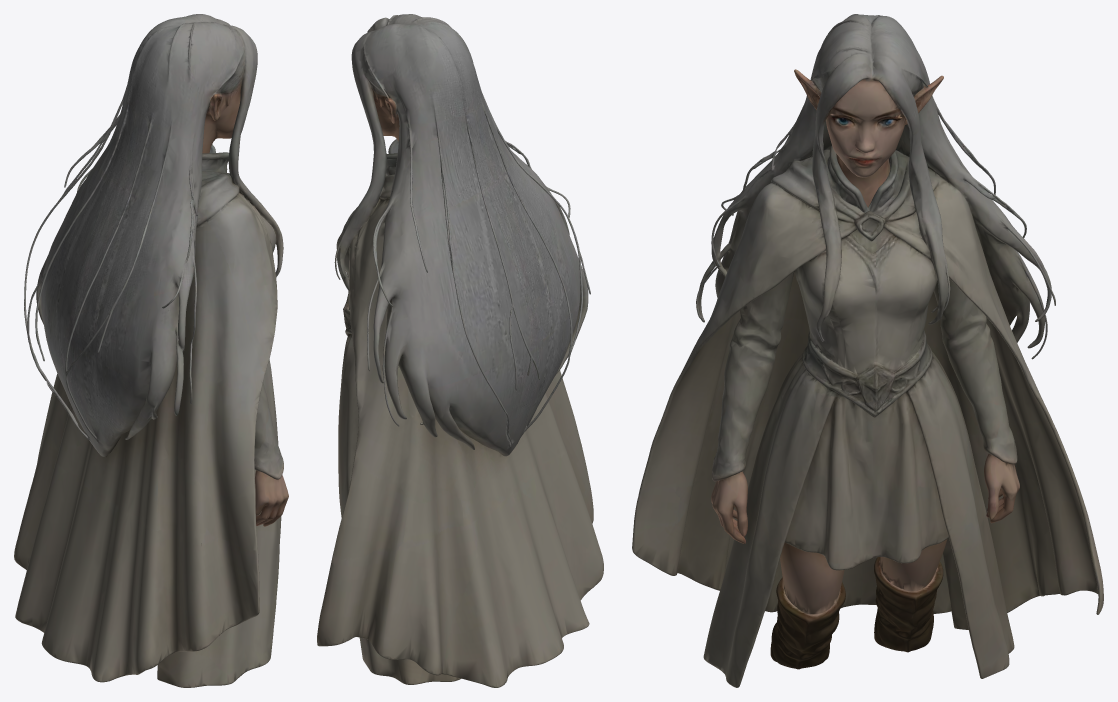
File: aiprintgen_Elegant Elf Sorceress 3D Model-preview.glb
3 renders of one model, left to right at view 1: azimuth 30°, elevation 25°; view 2: azimuth 150°, elevation 25°; view 3: azimuth 270°, elevation 25°, orthographic. The views are drawn at different scales.
Parts seen in each view (by area): view 1: aiprintgen_node_3ebfb0d4-3e1f-4c48-b6c6-471a0b354994; view 2: aiprintgen_node_3ebfb0d4-3e1f-4c48-b6c6-471a0b354994; view 3: aiprintgen_node_3ebfb0d4-3e1f-4c48-b6c6-471a0b354994.
Part boxes in pixels (x1,y1,x2,y2): aiprintgen_node_3ebfb0d4-3e1f-4c48-b6c6-471a0b354994: (14,14,288,687); aiprintgen_node_3ebfb0d4-3e1f-4c48-b6c6-471a0b354994: (317,14,603,687); aiprintgen_node_3ebfb0d4-3e1f-4c48-b6c6-471a0b354994: (632,14,1103,687).
Size of the model in its own units: 0.3713 by 1 by 0.6511.
1 material, 1 textured.
